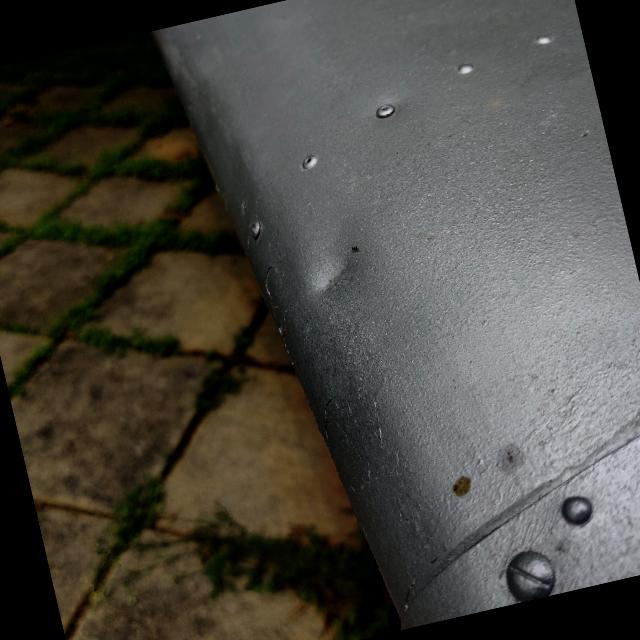dent: (275, 214, 396, 332)
